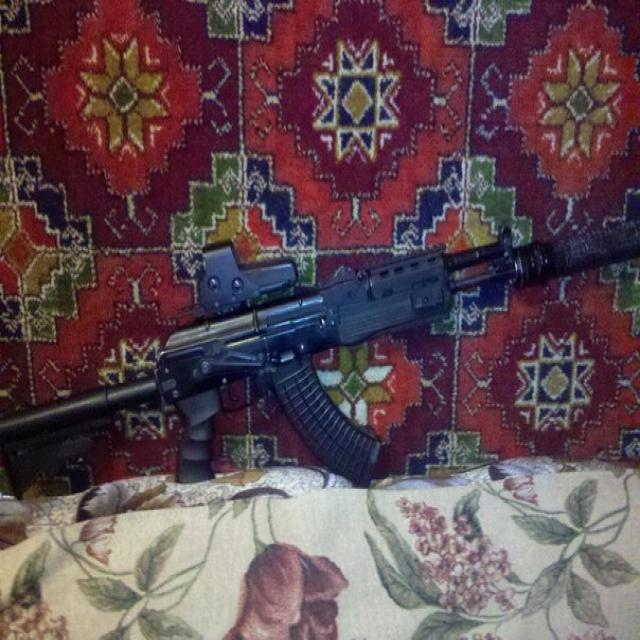firearm: (0, 214, 640, 507)
